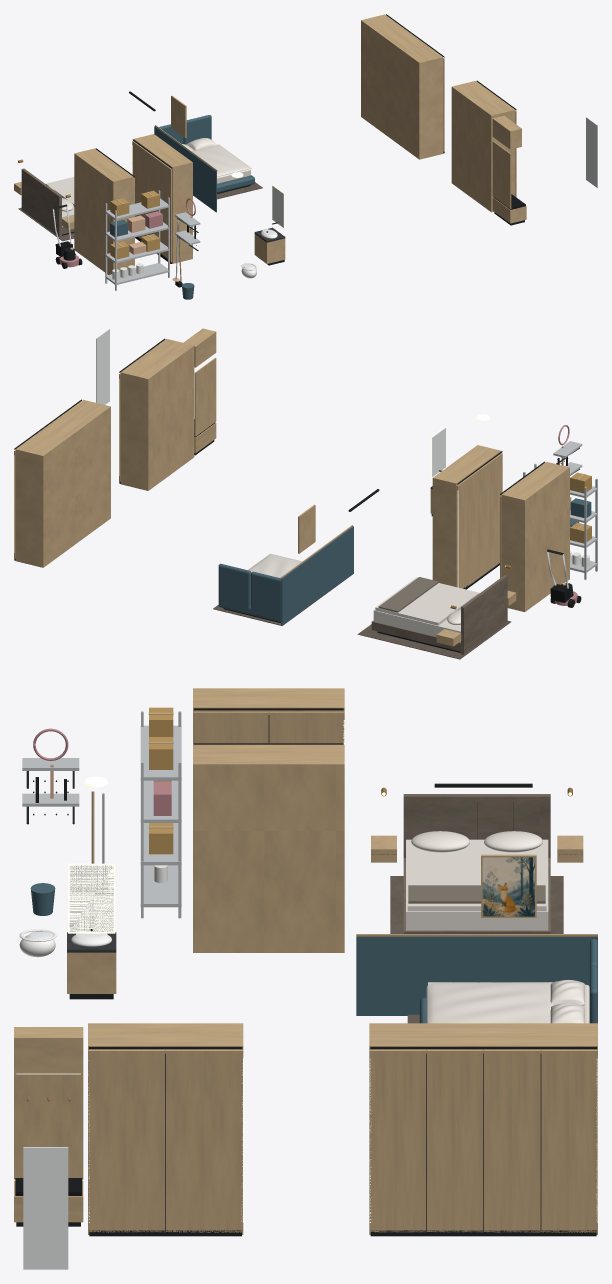
The model's file is dom-interior-02.glb.
The picture shows the model from 3 angles, top to bottom: view 1: azimuth 30°, elevation 25°; view 2: azimuth 150°, elevation 25°; view 3: azimuth 270°, elevation 25°; orthographic projection. The views are drawn at different scales.
Visible parts, largest first — view 1: DOM_00924 | C-GARDEN-HALL-CABINET · CARCASE · celovýšková za, DOM_00911 | C-ENTRY-CABINET · CARCASE · celovýšková zapusten, DOM_00946 | C-DRESSING-0 · CARCASE · celovýšková zapustená k, DOM_00953 | C-DRESSING-1 · CARCASE · celovýšková zapustená k, DOM_00975 | C-BEDROOM-110 · BED · čalúnené čelo, DOM_00993 | C-BOY-109 · FEATURE · nízky umývateľný farebný p, DOM_00954 | C-DRESSING-1 · DOOR · bezúchytkové dubové čelo 1, DOM_00964 | C-ENTRY-BENCH · HOOKS · dubový závesný panel, DOM_00955 | C-DRESSING-1 · DOOR · bezúchytkové dubové čelo 2, DOM_01003 | C-BOY-109 · BED · mäkko skladaná ľanová prikrývk, DOM_00968 | C-ENTRY-BENCH · OVERHEAD · horná úložná skriňa, DOM_00970 | C-ENTRY-BENCH · MIRROR · vysoké zrkadlo (+8 smaller); view 2: DOM_00924 | C-GARDEN-HALL-CABINET · CARCASE · celovýšková za, DOM_00911 | C-ENTRY-CABINET · CARCASE · celovýšková zapusten, DOM_00946 | C-DRESSING-0 · CARCASE · celovýšková zapustená k, DOM_00953 | C-DRESSING-1 · CARCASE · celovýšková zapustená k, DOM_00993 | C-BOY-109 · FEATURE · nízky umývateľný farebný p, DOM_00955 | C-DRESSING-1 · DOOR · bezúchytkové dubové čelo 2, DOM_00975 | C-BEDROOM-110 · BED · čalúnené čelo, DOM_00954 | C-DRESSING-1 · DOOR · bezúchytkové dubové čelo 1, DOM_00979 | C-BEDROOM-110 · BED · ľanová prikrývka, DOM_00964 | C-ENTRY-BENCH · HOOKS · dubový závesný panel, DOM_01002 | C-BOY-109 · BED · čalúnené čelo 2, DOM_01001 | C-BOY-109 · BED · čalúnené čelo 1 (+10 smaller); view 3: DOM_00953 | C-DRESSING-1 · CARCASE · celovýšková zapustená k, DOM_00912 | C-ENTRY-CABINET · DOOR · bezúchytkové dubové čel, DOM_00913 | C-ENTRY-CABINET · DOOR · bezúchytkové dubové čel, DOM_00993 | C-BOY-109 · FEATURE · nízky umývateľný farebný p, DOM_00925 | C-GARDEN-HALL-CABINET · DOOR · bezúchytkové dubo, DOM_00940 | C-GARDEN-HALL-CABINET · DOOR · bezúchytkové dubo, DOM_00933 | C-GARDEN-HALL-CABINET · DOOR · bezúchytkové dubo, DOM_00926 | C-GARDEN-HALL-CABINET · DOOR · bezúchytkové dubo, DOM_00975 | C-BEDROOM-110 · BED · čalúnené čelo, DOM_00924 | C-GARDEN-HALL-CABINET · CARCASE · celovýšková za, DOM_00964 | C-ENTRY-BENCH · HOOKS · dubový závesný panel, DOM_00970 | C-ENTRY-BENCH · MIRROR · vysoké zrkadlo (+29 smaller).
Part boxes in pixels (x1=…): DOM_00924 | C-GARDEN-HALL-CABINET · CARCASE · celovýšková za: x1=361, y1=14, x2=443, y2=159; DOM_00911 | C-ENTRY-CABINET · CARCASE · celovýšková zapusten: x1=451, y1=81, x2=515, y2=212; DOM_00946 | C-DRESSING-0 · CARCASE · celovýšková zapustená k: x1=74, y1=148, x2=133, y2=274; DOM_00953 | C-DRESSING-1 · CARCASE · celovýšková zapustená k: x1=133, y1=134, x2=192, y2=263; DOM_00975 | C-BEDROOM-110 · BED · čalúnené čelo: x1=21, y1=168, x2=61, y2=237; DOM_00993 | C-BOY-109 · FEATURE · nízky umývateľný farebný p: x1=154, y1=126, x2=216, y2=212; DOM_00954 | C-DRESSING-1 · DOOR · bezúchytkové dubové čelo 1: x1=151, y1=155, x2=171, y2=262; DOM_00964 | C-ENTRY-BENCH · HOOKS · dubový závesný panel: x1=492, y1=141, x2=511, y2=208; DOM_00955 | C-DRESSING-1 · DOOR · bezúchytkové dubové čelo 2: x1=132, y1=141, x2=152, y2=238; DOM_01003 | C-BOY-109 · BED · mäkko skladaná ľanová prikrývk: x1=192, y1=144, x2=251, y2=176; DOM_00968 | C-ENTRY-BENCH · OVERHEAD · horná úložná skriňa: x1=492, y1=116, x2=521, y2=149; DOM_00970 | C-ENTRY-BENCH · MIRROR · vysoké zrkadlo: x1=586, y1=117, x2=597, y2=188; DOM_00924 | C-GARDEN-HALL-CABINET · CARCASE · celovýšková za: x1=15, y1=399, x2=110, y2=567; DOM_00911 | C-ENTRY-CABINET · CARCASE · celovýšková zapusten: x1=120, y1=339, x2=194, y2=490; DOM_00946 | C-DRESSING-0 · CARCASE · celovýšková zapustená k: x1=501, y1=462, x2=569, y2=611; DOM_00953 | C-DRESSING-1 · CARCASE · celovýšková zapustená k: x1=432, y1=445, x2=501, y2=586; DOM_00993 | C-BOY-109 · FEATURE · nízky umývateľný farebný p: x1=281, y1=526, x2=353, y2=625; DOM_00955 | C-DRESSING-1 · DOOR · bezúchytkové dubové čelo 2: x1=456, y1=469, x2=480, y2=588; DOM_00975 | C-BEDROOM-110 · BED · čalúnené čelo: x1=461, y1=575, x2=507, y2=654; DOM_00954 | C-DRESSING-1 · DOOR · bezúchytkové dubové čelo 1: x1=479, y1=453, x2=502, y2=576; DOM_00979 | C-BEDROOM-110 · BED · ľanová prikrývka: x1=375, y1=577, x2=479, y2=625; DOM_00964 | C-ENTRY-BENCH · HOOKS · dubový závesný panel: x1=194, y1=357, x2=216, y2=436; DOM_01002 | C-BOY-109 · BED · čalúnené čelo 2: x1=218, y1=563, x2=251, y2=614; DOM_01001 | C-BOY-109 · BED · čalúnené čelo 1: x1=251, y1=571, x2=283, y2=621; DOM_00953 | C-DRESSING-1 · CARCASE · celovýšková zapustená k: x1=193, y1=744, x2=344, y2=952; DOM_00912 | C-ENTRY-CABINET · DOOR · bezúchytkové dubové čel: x1=88, y1=1050, x2=165, y2=1232; DOM_00913 | C-ENTRY-CABINET · DOOR · bezúchytkové dubové čel: x1=166, y1=1050, x2=242, y2=1232; DOM_00993 | C-BOY-109 · FEATURE · nízky umývateľný farebný p: x1=356, y1=936, x2=597, y2=1015; DOM_00925 | C-GARDEN-HALL-CABINET · DOOR · bezúchytkové dubo: x1=369, y1=1050, x2=426, y2=1232; DOM_00940 | C-GARDEN-HALL-CABINET · DOOR · bezúchytkové dubo: x1=541, y1=1050, x2=597, y2=1232; DOM_00933 | C-GARDEN-HALL-CABINET · DOOR · bezúchytkové dubo: x1=484, y1=1050, x2=540, y2=1232; DOM_00926 | C-GARDEN-HALL-CABINET · DOOR · bezúchytkové dubo: x1=427, y1=1050, x2=483, y2=1232; DOM_00975 | C-BEDROOM-110 · BED · čalúnené čelo: x1=403, y1=794, x2=550, y2=857; DOM_00924 | C-GARDEN-HALL-CABINET · CARCASE · celovýšková za: x1=369, y1=1023, x2=597, y2=1234; DOM_00964 | C-ENTRY-BENCH · HOOKS · dubový závesný panel: x1=14, y1=1073, x2=83, y2=1179; DOM_00970 | C-ENTRY-BENCH · MIRROR · vysoké zrkadlo: x1=23, y1=1147, x2=68, y2=1269.
Size of the model in its own units: 12.98 by 2.59 by 7.15.
Materials: 23 (7 with a texture image).
